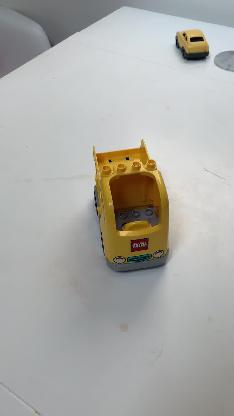yellow dump truck: (90, 136, 168, 272)
